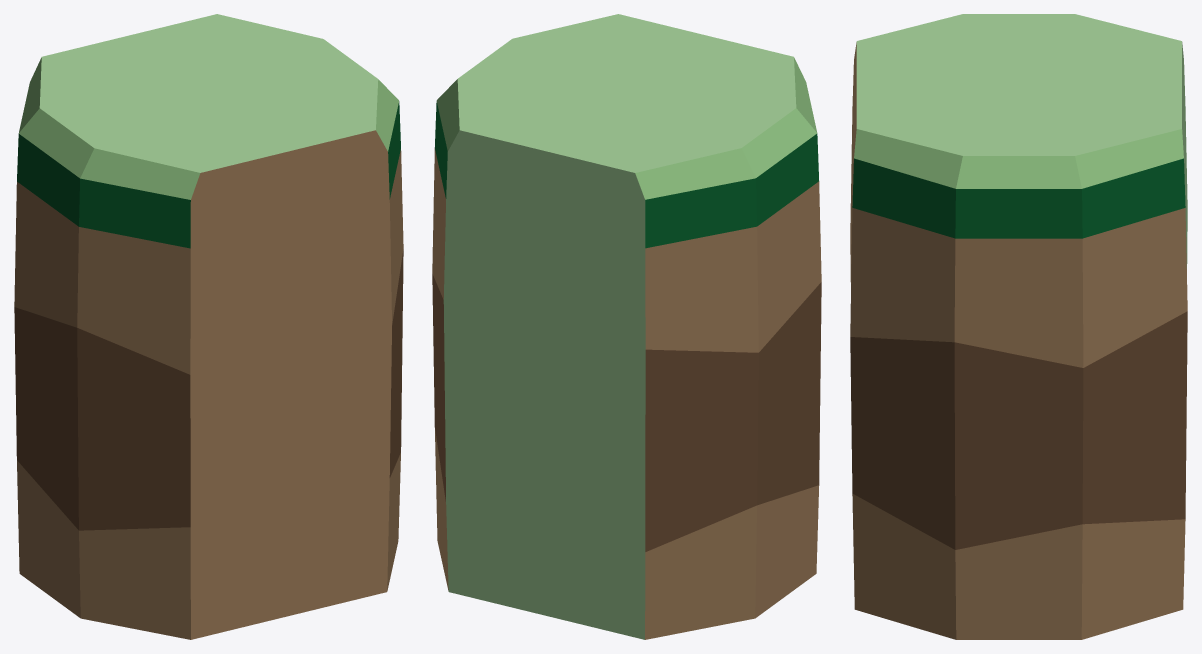
Rendered from ground_asset.fbx.
3 renders of one model, left to right at view 1: azimuth 30°, elevation 25°; view 2: azimuth 150°, elevation 25°; view 3: azimuth 270°, elevation 25°, orthographic. The views are drawn at different scales.
Visible parts, largest first — view 1: Cylinder.004; view 2: Cylinder.004; view 3: Cylinder.004.
Boxes of the visible parts, bbox=[...] form: Cylinder.004: bbox=[14, 14, 403, 639]; Cylinder.004: bbox=[432, 14, 821, 639]; Cylinder.004: bbox=[850, 14, 1187, 639].
Bounding box in the file's own units: 298 × 405 × 260.
